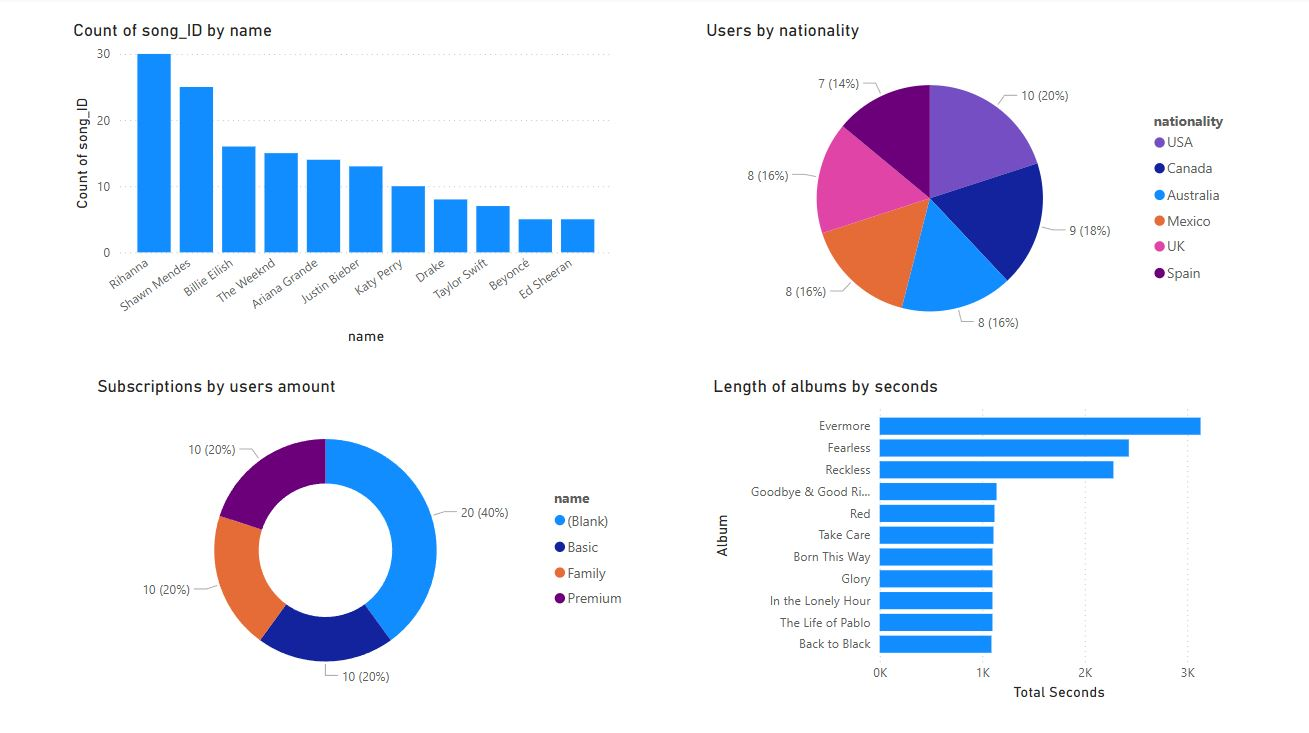

This screenshot's page, from the dashboard's own definition file:
{"tool":"powerbi","page":{"name":"Page 1","canvas":[1280,720],"ordinal":0},"visuals":[{"type":"columnChart","fields":{"Category":["Artist.name"],"Y":["Song.song_ID"]},"box":[69.1,22.3,534,320],"z":0},{"type":"barChart","title":"Length of albums by seconds","fields":{"Category":["Album.title"],"Y":["Album.duration"]},"box":[691.6,368.6,534,320],"z":1000},{"type":"pieChart","title":"Users by nationality","fields":{"Category":["User.nationality"],"Y":["User.user_ID"]},"box":[684.7,22.4,529.1,327.8],"z":2000},{"type":"donutChart","title":"Subscriptions by users amount","fields":{"Category":["Subscription_Type.name"],"Y":["User.user_ID"]},"box":[92.4,368.6,529.1,320],"z":2001}]}

Visuals, with their boxes in screenshot pixels (x1, y1, x2, y2), scaled from the page's 1280x720 canvas onto the 1309x733 screenshot:
columnChart - Artist.name x Song.song_ID: (71, 23, 617, 348)
"Length of albums by seconds" barChart: (707, 375, 1253, 701)
"Users by nationality" pieChart: (700, 23, 1241, 357)
"Subscriptions by users amount" donutChart: (94, 375, 636, 701)
